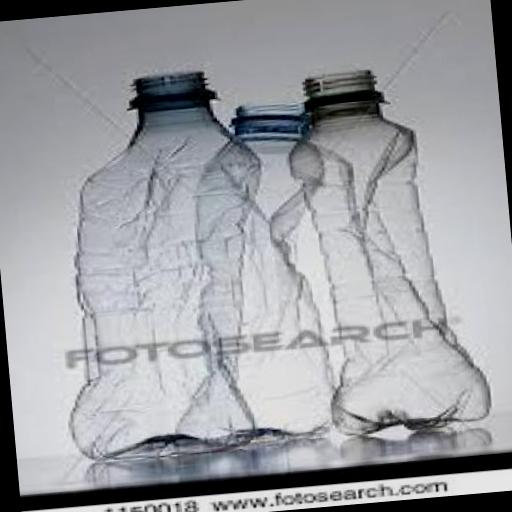plastic: (39, 66, 280, 464), (273, 60, 488, 442), (152, 98, 348, 452)
